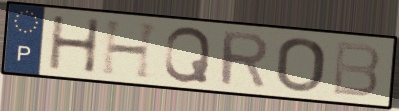B: (329, 39, 383, 100)
H: (98, 18, 163, 82), (47, 14, 103, 75)
O: (274, 36, 328, 94)
Q: (161, 25, 214, 85)
R: (218, 29, 271, 90)
